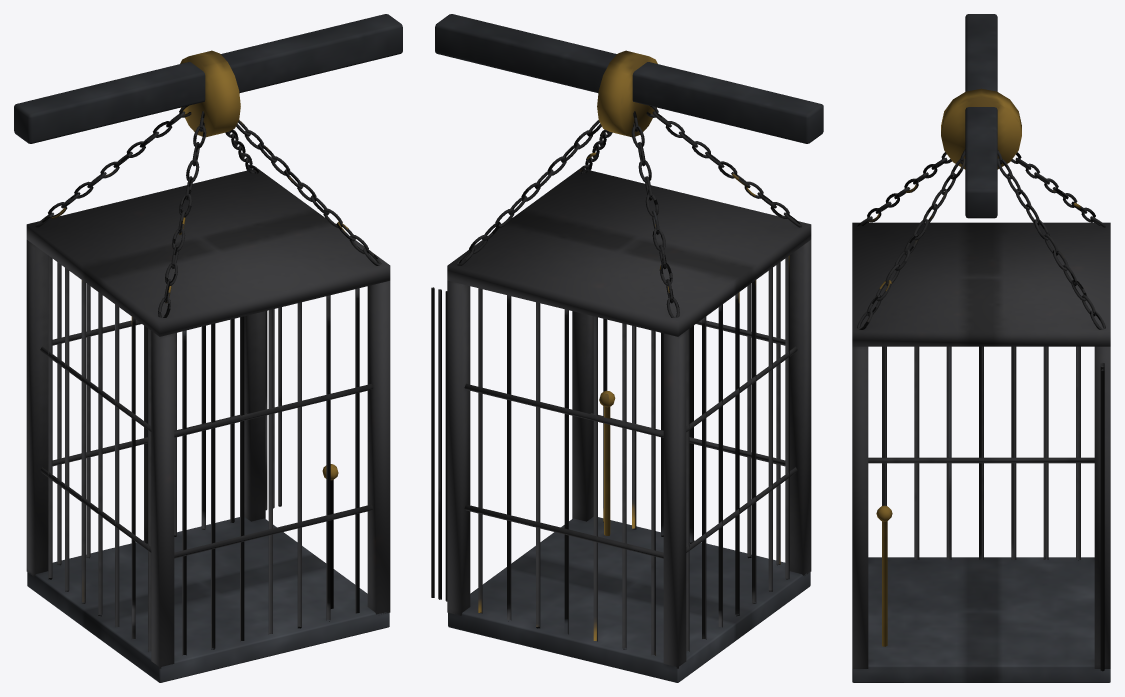
Rendered from lift_cage.obj.
3 renders of one model, left to right at view 1: azimuth 30°, elevation 25°; view 2: azimuth 150°, elevation 25°; view 3: azimuth 270°, elevation 25°, orthographic. The views are drawn at different scales.
Parts seen in each view (by area): view 1: part0, part1, part3, part2; view 2: part0, part1, part3, part2; view 3: part0, part1, part3, part2.
Boxes of the visible parts, x1,y1,x2,y2 form: part0: (26,105,390,668); part1: (27,517,389,682); part3: (14,14,402,143); part2: (180,50,338,608); part0: (431,105,811,668); part1: (448,517,810,682); part3: (435,14,823,143); part2: (597,50,657,535); part0: (852,149,1110,671); part1: (852,557,1110,682); part3: (965,14,997,218); part2: (876,88,1021,646).
Bounding box in the file's own units: 2.6 × 3.65 × 1.6.
